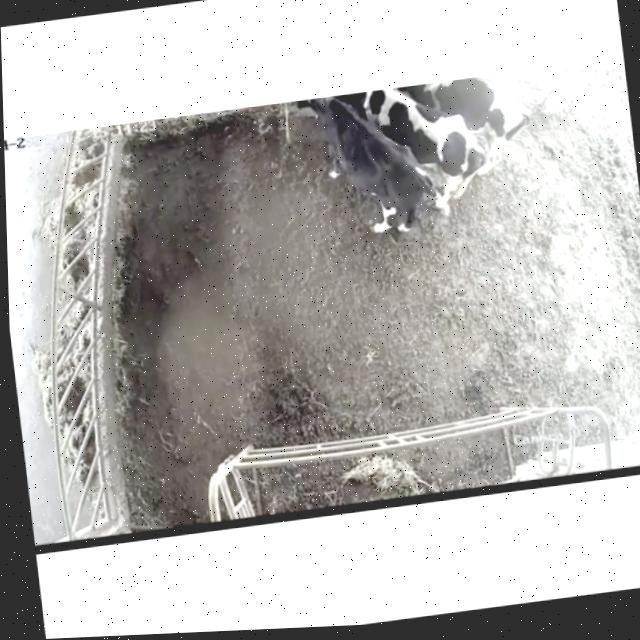drink: (285, 96, 340, 136), (335, 89, 384, 121), (381, 83, 427, 99)
